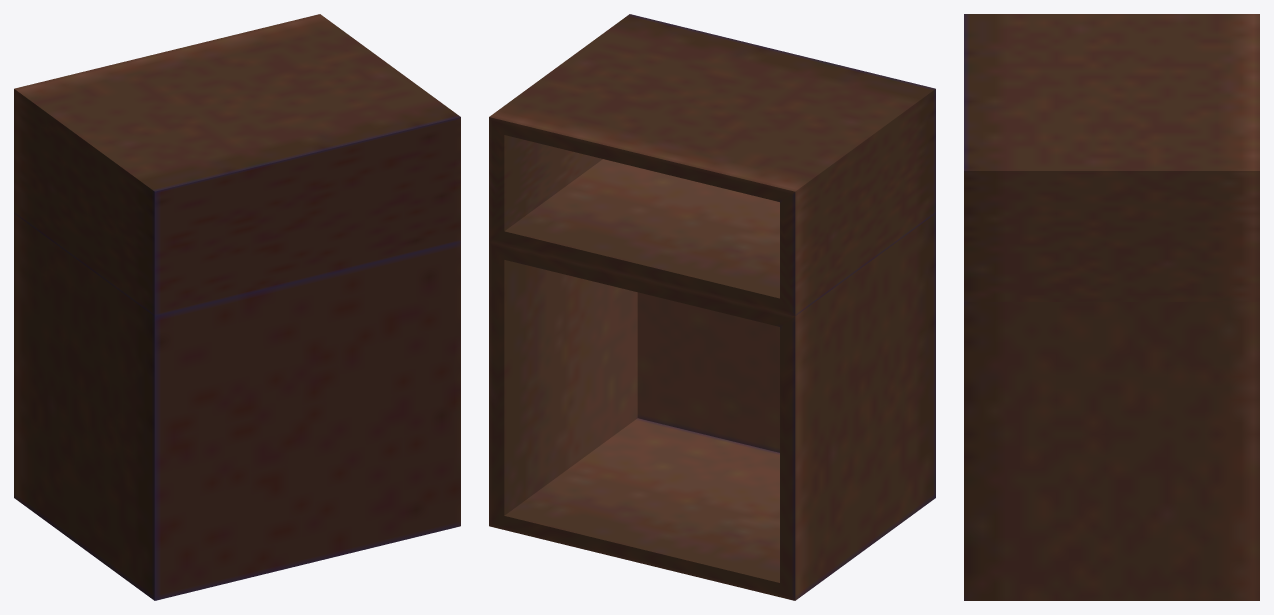
Rendered from small_dual_cabinet.fbx.
3 views of the same model, side by side, from view 1: azimuth 30°, elevation 25°; view 2: azimuth 150°, elevation 25°; view 3: azimuth 270°, elevation 25° (orthographic). The views are drawn at different scales.
Visible parts, largest first — view 1: Dual Cabinet; view 2: Dual Cabinet; view 3: Dual Cabinet.
Boxes of the visible parts, box(x1,y1,x2,y2) form: Dual Cabinet: box(14, 14, 460, 600); Dual Cabinet: box(489, 14, 935, 600); Dual Cabinet: box(964, 14, 1259, 600).
Bounding box in the file's own units: 0.7155 × 0.5698 × 0.9141.
Materials: 1 (1 with a texture image).
